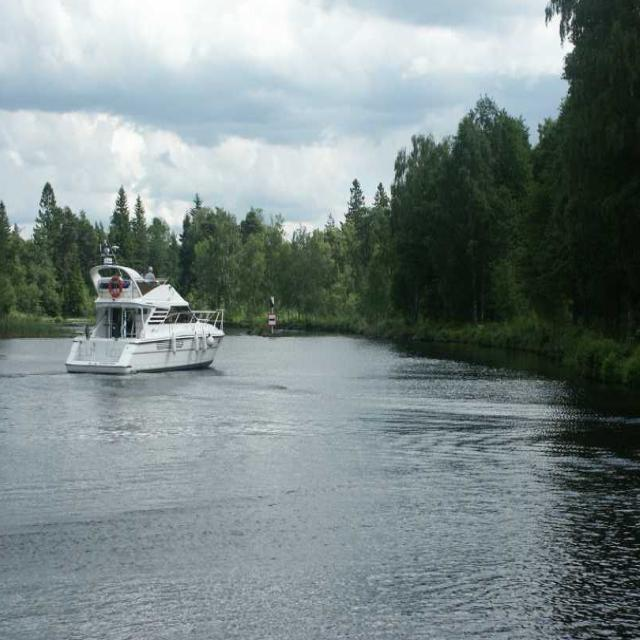houseboat: (59, 258, 234, 374)
